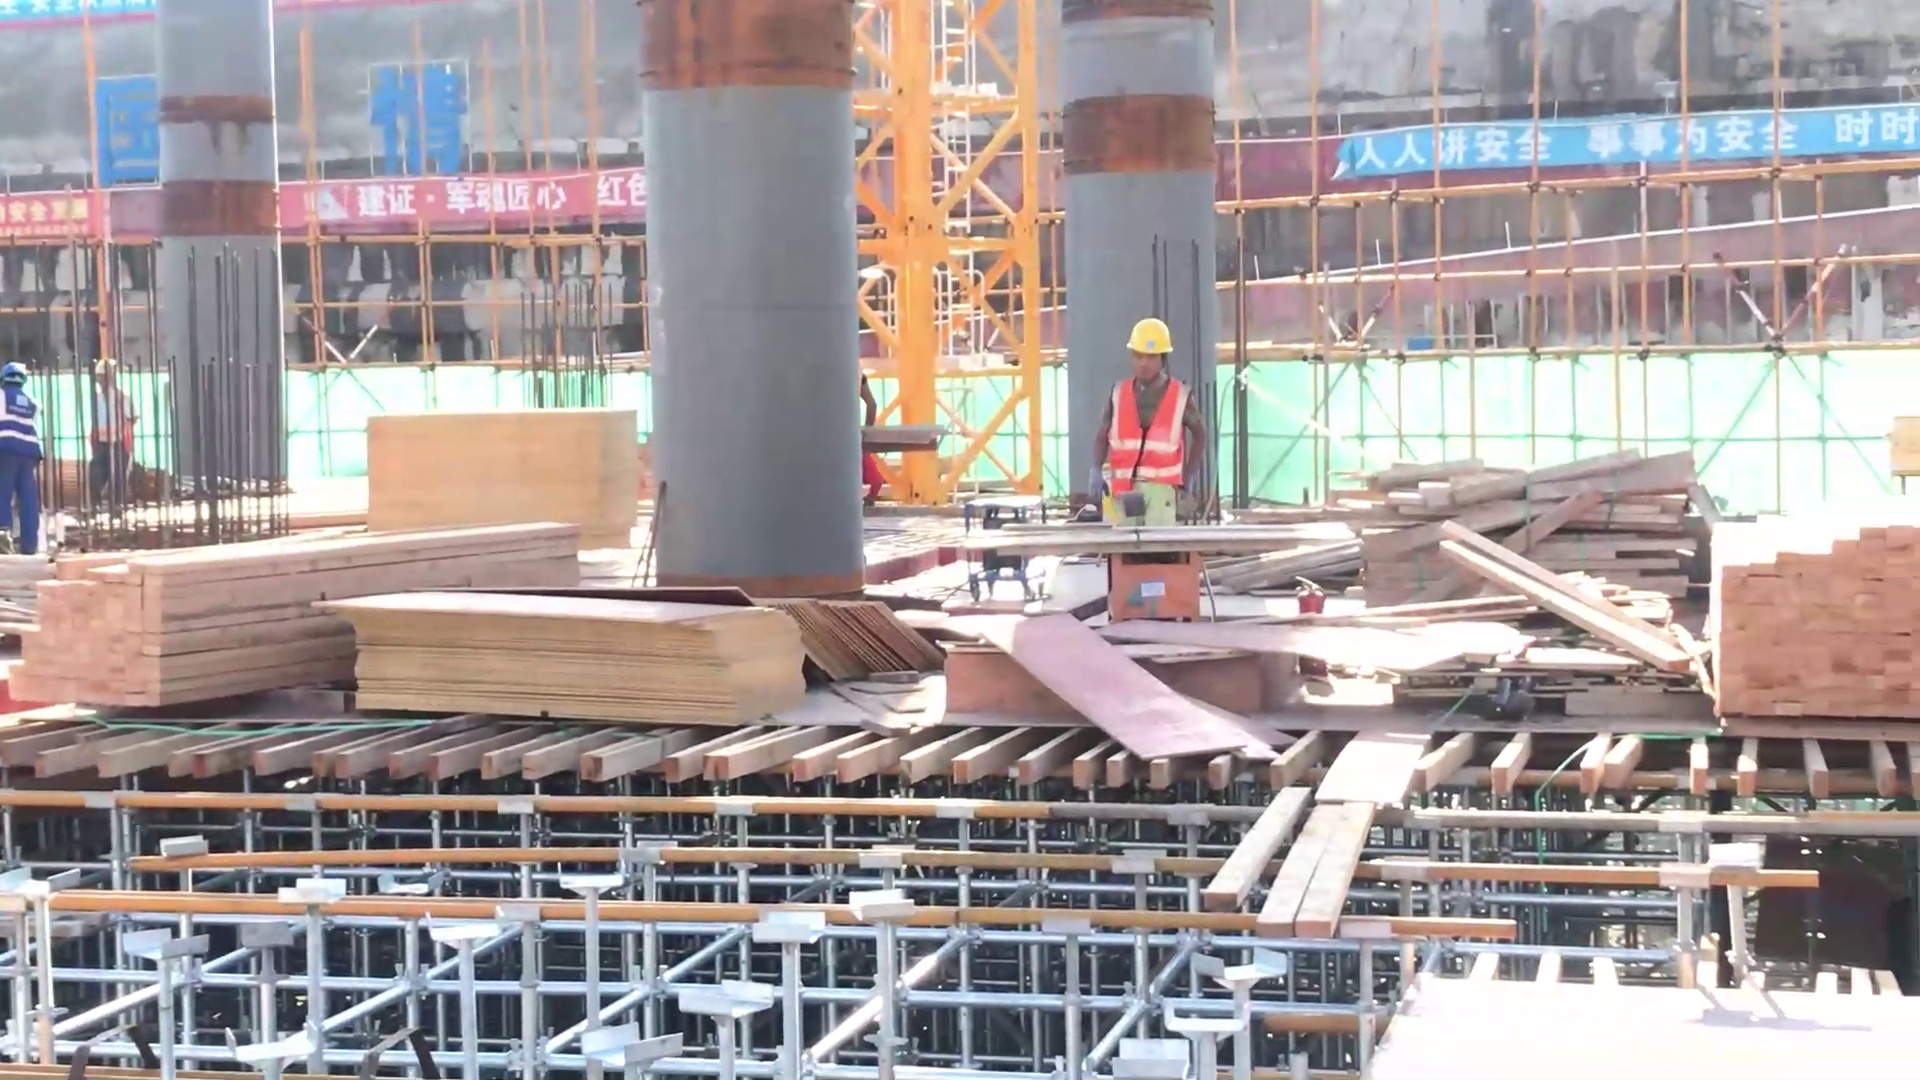board: (792, 588, 946, 676)
helmet: (1120, 308, 1170, 350)
person: (70, 353, 150, 511), (1, 365, 66, 548)
slogan: (1323, 114, 1920, 168), (300, 162, 715, 229)
vest: (1108, 368, 1190, 489), (1, 392, 50, 451)
wood: (23, 524, 582, 704), (1650, 488, 1920, 711)
